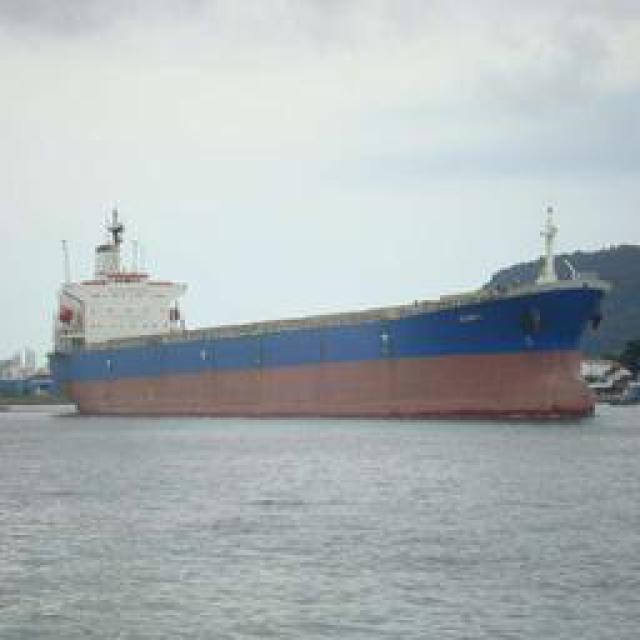Ship: (56, 194, 606, 424)
